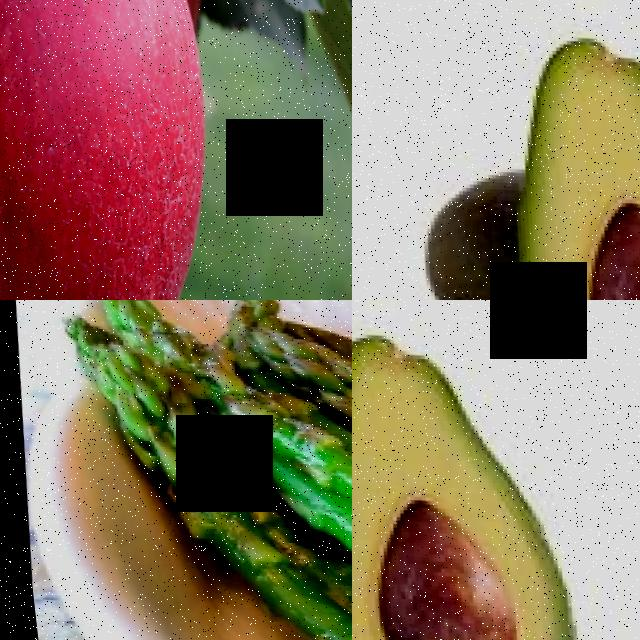apple: (0, 0, 236, 300)
asparagus: (59, 300, 352, 640)
avocado: (352, 301, 612, 640), (461, 4, 640, 300), (383, 152, 535, 300)
